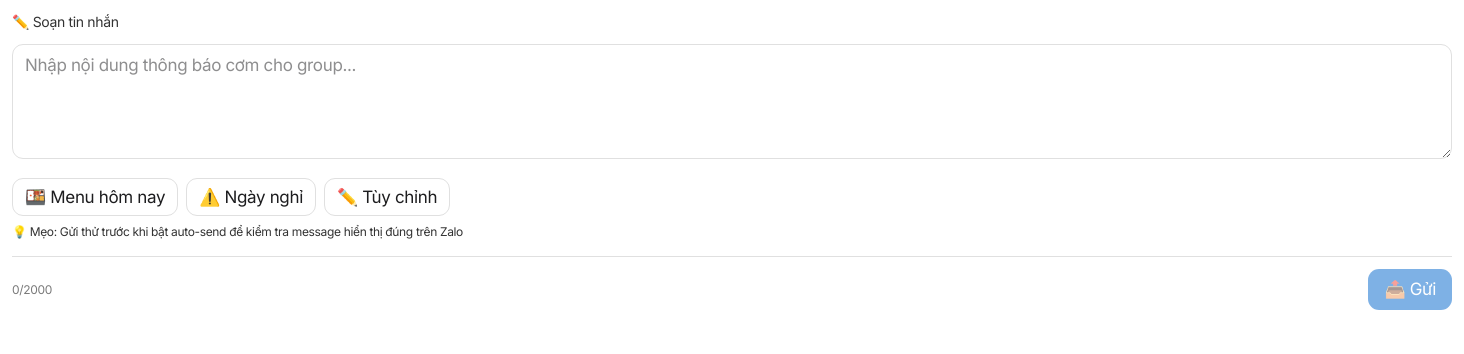
SendTab › character count updates with text length
Type "12345" into the text box with placeholder "Nhập nội dung thông báo cơm cho group..." at (732, 102), box [12, 44, 1452, 159]
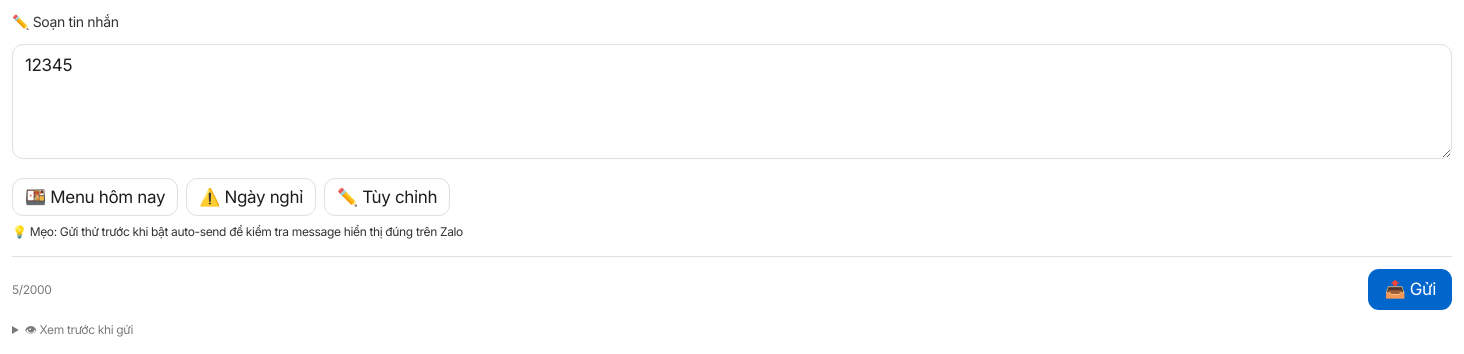
Expected: the text "5/2000" is shown, [12, 282, 51, 298]
